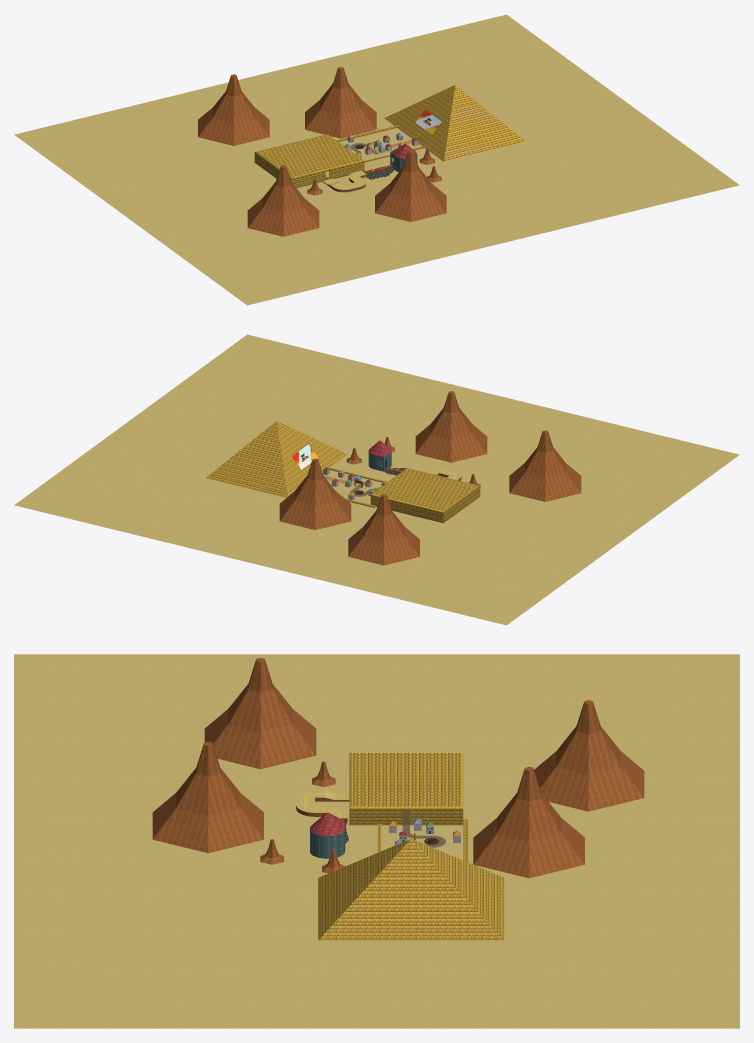
The picture shows the model from 3 angles, top to bottom: view 1: azimuth 30°, elevation 25°; view 2: azimuth 150°, elevation 25°; view 3: azimuth 270°, elevation 25°; orthographic projection. The views are drawn at different scales.
Parts seen in each view (by area): view 1: How_Did_We_Get_in_this_Desert_SKP__Offroad.001, How_Did_We_Get_in_this_Desert_SKP__Rock.001, How_Did_We_Get_in_this_Desert_SKP__Temple.001; view 2: How_Did_We_Get_in_this_Desert_SKP__Offroad.001, How_Did_We_Get_in_this_Desert_SKP__Rock.001, How_Did_We_Get_in_this_Desert_SKP__Temple.001; view 3: How_Did_We_Get_in_this_Desert_SKP__Offroad.001, How_Did_We_Get_in_this_Desert_SKP__Rock.001, How_Did_We_Get_in_this_Desert_SKP__Temple.001, How_Did_We_Get_in_this_Desert_SKP__Tower.001, How_Did_We_Get_in_this_Desert_SKP__Roof1.001.
Part boxes in pixels (left/top/right/bottom): How_Did_We_Get_in_this_Desert_SKP__Offroad.001: left=14, top=14, right=739, bottom=305; How_Did_We_Get_in_this_Desert_SKP__Rock.001: left=198, top=67, right=446, bottom=236; How_Did_We_Get_in_this_Desert_SKP__Temple.001: left=254, top=85, right=525, bottom=188; How_Did_We_Get_in_this_Desert_SKP__Offroad.001: left=14, top=334, right=739, bottom=625; How_Did_We_Get_in_this_Desert_SKP__Rock.001: left=279, top=391, right=581, bottom=565; How_Did_We_Get_in_this_Desert_SKP__Temple.001: left=206, top=421, right=480, bottom=523; How_Did_We_Get_in_this_Desert_SKP__Offroad.001: left=14, top=654, right=739, bottom=1028; How_Did_We_Get_in_this_Desert_SKP__Rock.001: left=152, top=657, right=644, bottom=878; How_Did_We_Get_in_this_Desert_SKP__Temple.001: left=318, top=753, right=504, bottom=940; How_Did_We_Get_in_this_Desert_SKP__Tower.001: left=310, top=829, right=345, bottom=858; How_Did_We_Get_in_this_Desert_SKP__Roof1.001: left=310, top=812, right=407, bottom=836.
Bounding box in the file's own units: 424716 × 44049 × 348368.
Materials: 27 (27 with a texture image).
